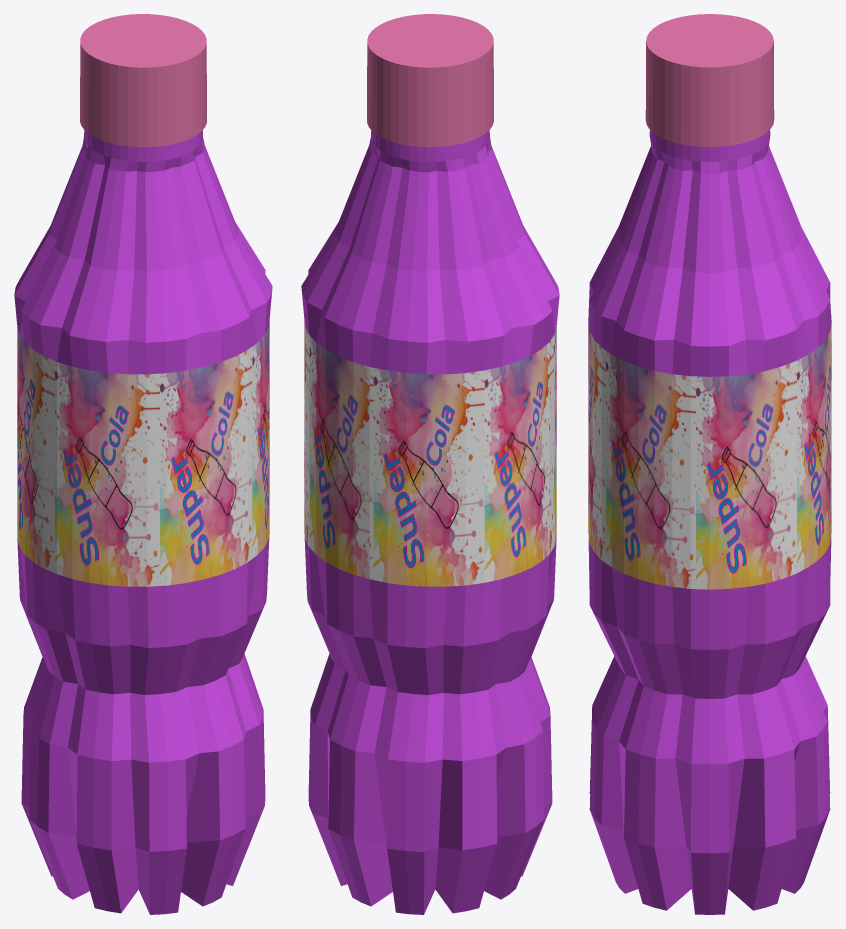
The model's file is bottlecrush2.glb.
3 views of the same model, side by side, from view 1: azimuth 30°, elevation 25°; view 2: azimuth 150°, elevation 25°; view 3: azimuth 270°, elevation 25° (orthographic).
Visible parts, largest first — view 1: Bottle, Cap; view 2: Bottle, Cap; view 3: Bottle, Cap.
Boxes of the visible parts, left/top/right/bottom form: Bottle: left=14, top=130, right=272, bottom=914; Cap: left=80, top=14, right=206, bottom=147; Bottle: left=301, top=130, right=559, bottom=914; Cap: left=367, top=14, right=493, bottom=147; Bottle: left=588, top=130, right=831, bottom=914; Cap: left=645, top=14, right=774, bottom=146.
Size of the model in its own units: 1.26 by 4.39 by 1.16.
Materials: 3 (1 with a texture image).
